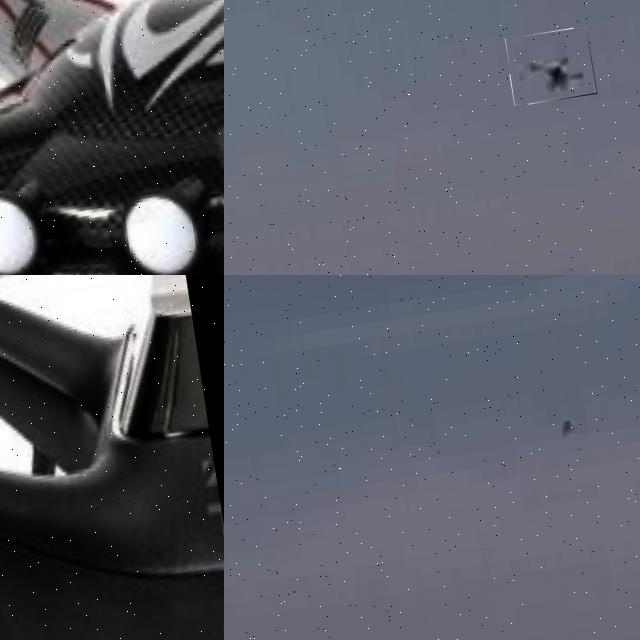drone: (0, 275, 224, 640), (0, 0, 224, 275), (504, 27, 598, 106)
